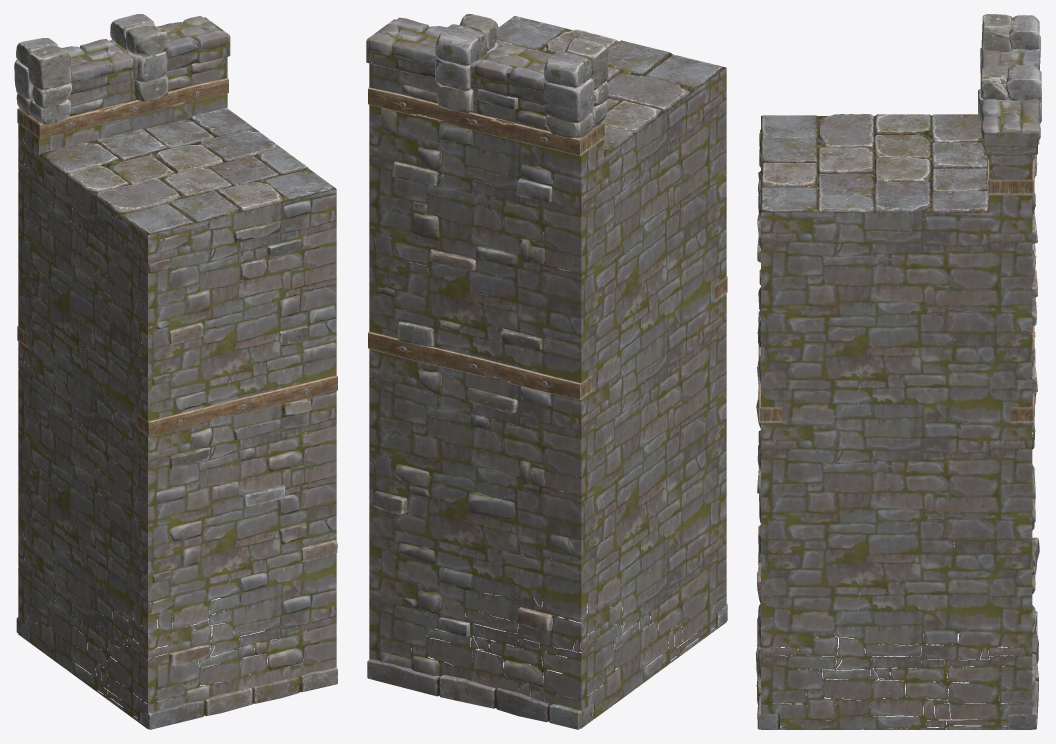
3 renders of one model, left to right at view 1: azimuth 30°, elevation 25°; view 2: azimuth 150°, elevation 25°; view 3: azimuth 270°, elevation 25°, orthographic. The views are drawn at different scales.
Visible parts, largest first — view 1: SM_Castle_Wall_4x12_01_v4_LOD0; view 2: SM_Castle_Wall_4x12_01_v4_LOD0; view 3: SM_Castle_Wall_4x12_01_v4_LOD0.
Boxes of the visible parts, x1,y1,x2,y2 form: SM_Castle_Wall_4x12_01_v4_LOD0: (14, 14, 337, 729); SM_Castle_Wall_4x12_01_v4_LOD0: (366, 14, 727, 729); SM_Castle_Wall_4x12_01_v4_LOD0: (756, 14, 1041, 729).
Bounding box in the file's own units: 4.03 × 12 × 5.01.
6 materials, 6 textured.
